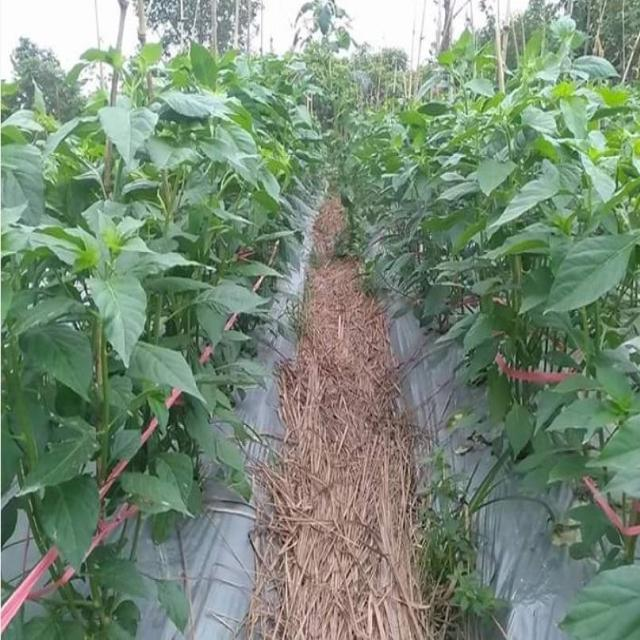row: (213, 174, 523, 640)
